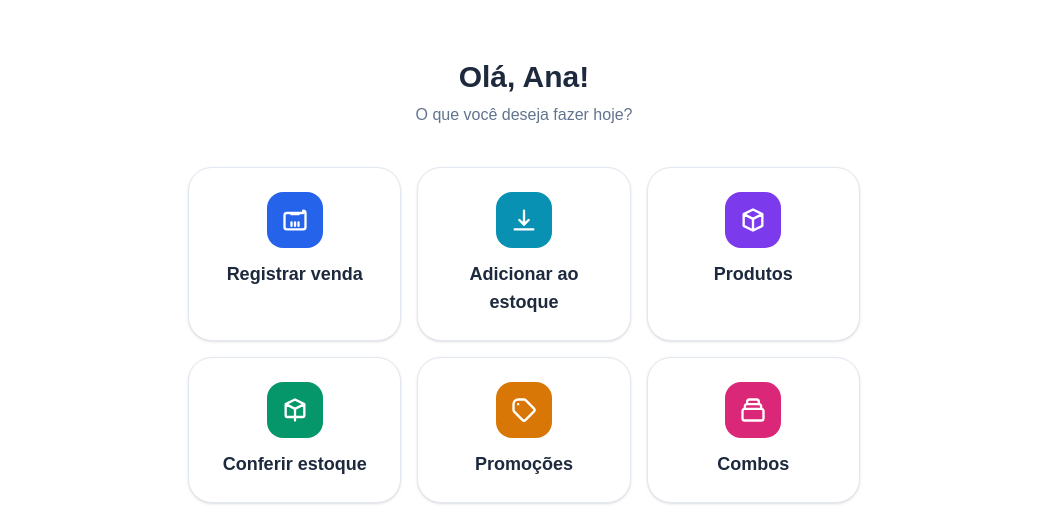
SimplesAssistant › navega para o fluxo de venda (MovimentacaoWizard tipo SAIDA) ao clicar em 'Registrar venda'
This screenshot has width=1048, height=521.
Click the button "Registrar venda".
click(295, 254)  # box [188, 167, 401, 341]
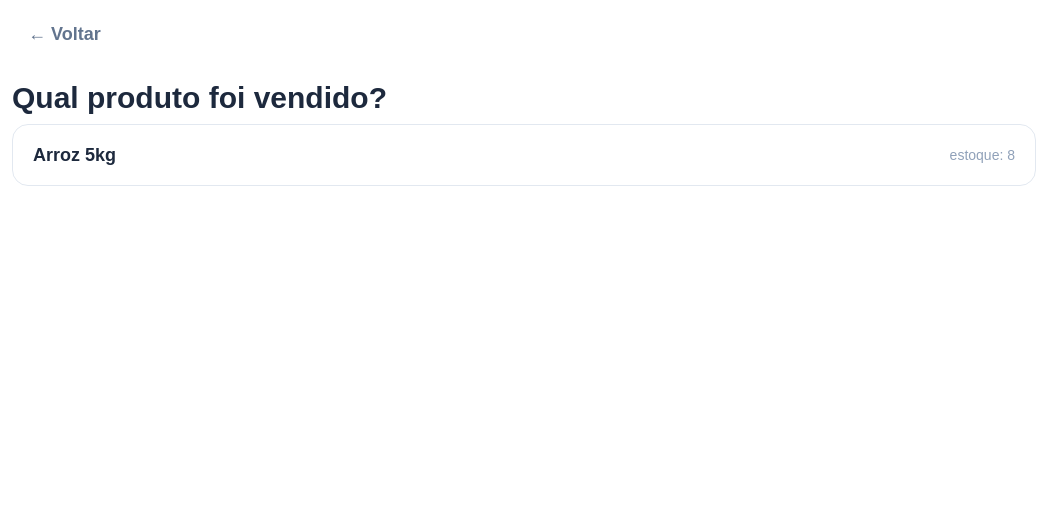
Expected: the heading "Qual produto foi vendido?" is shown, [12, 81, 387, 114]
Expected: the text "Arroz 5kg" is shown, [33, 141, 116, 169]
